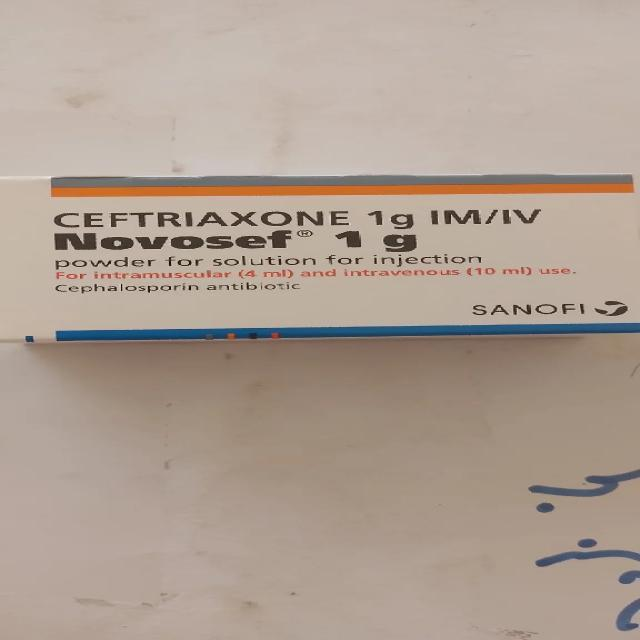drug-name: (52, 228, 298, 252)
